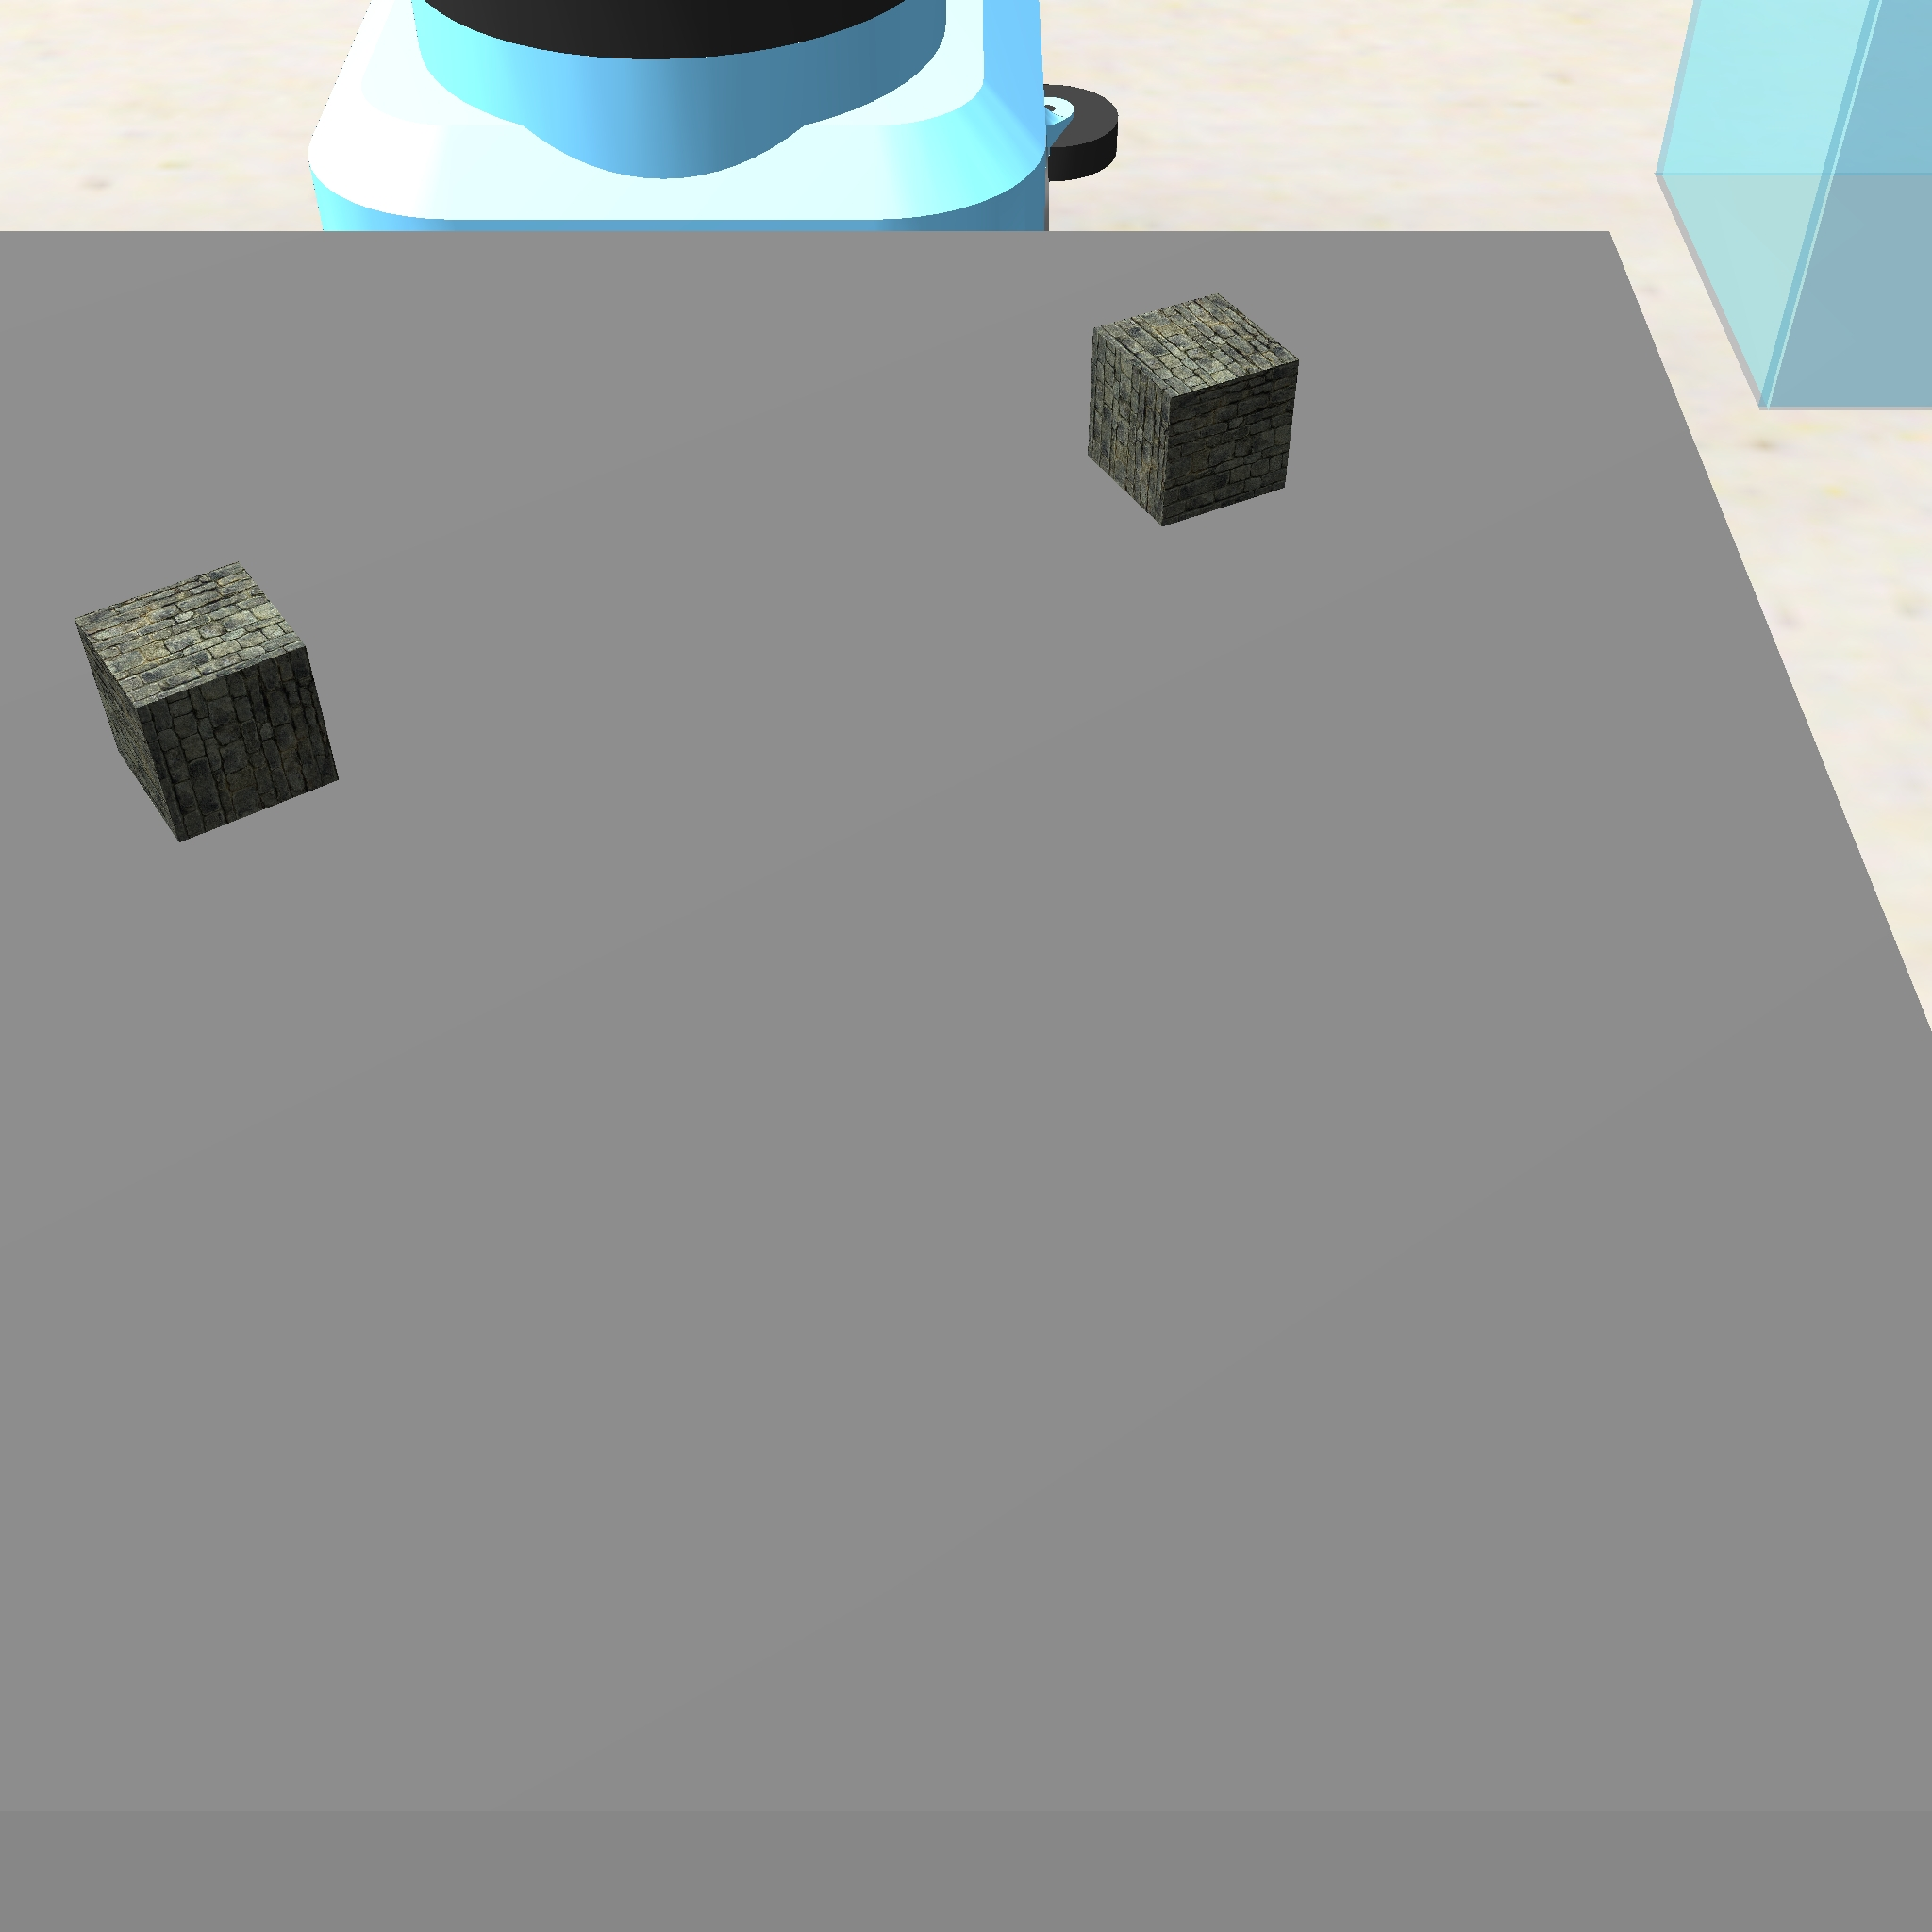cube: (65, 556, 347, 849), (1081, 288, 1306, 534)
